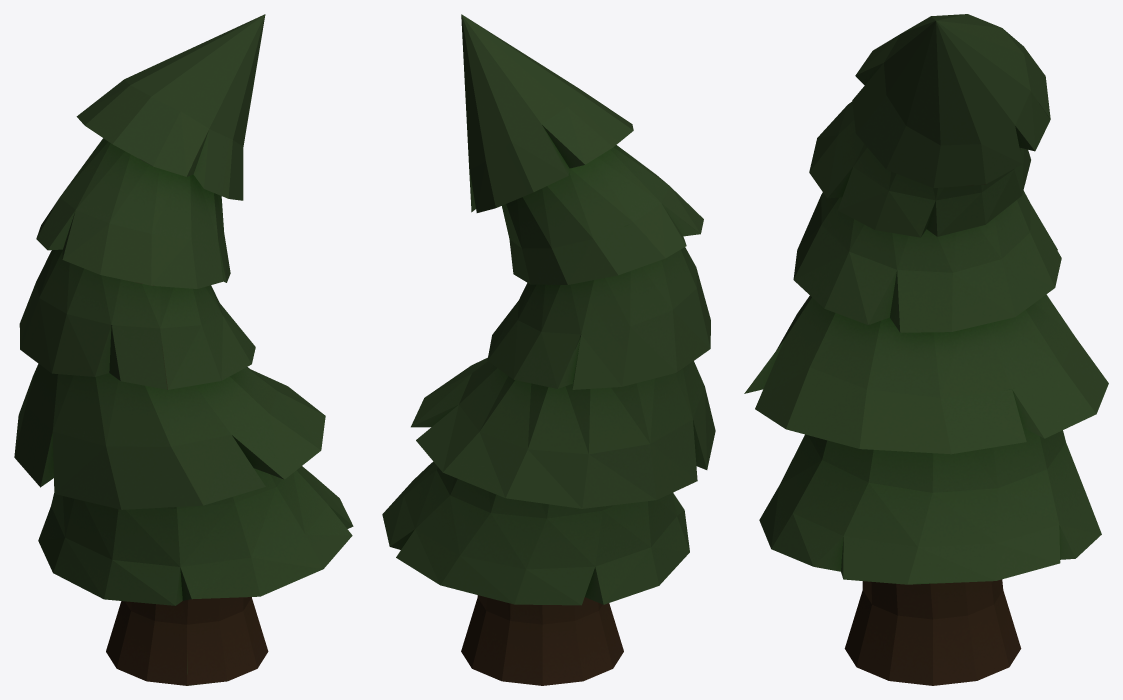
File: tree1.1rot.obj
3 renders of one model, left to right at view 1: azimuth 30°, elevation 25°; view 2: azimuth 150°, elevation 25°; view 3: azimuth 270°, elevation 25°, orthographic. The views are drawn at different scales.
Parts seen in each view (by area): view 1: Tree1.1Rot_Cylinder.002_Tree1.1Rot_Cylinder.002_Leaves.010, Tree1.1Rot_Cylinder.002_Tree1.1Rot_Cylinder.002_Trunk.011; view 2: Tree1.1Rot_Cylinder.002_Tree1.1Rot_Cylinder.002_Leaves.010, Tree1.1Rot_Cylinder.002_Tree1.1Rot_Cylinder.002_Trunk.011; view 3: Tree1.1Rot_Cylinder.002_Tree1.1Rot_Cylinder.002_Leaves.010, Tree1.1Rot_Cylinder.002_Tree1.1Rot_Cylinder.002_Trunk.011.
Part boxes in pixels (left/top/right/bottom): Tree1.1Rot_Cylinder.002_Tree1.1Rot_Cylinder.002_Leaves.010: left=14, top=14, right=353, bottom=605; Tree1.1Rot_Cylinder.002_Tree1.1Rot_Cylinder.002_Trunk.011: left=106, top=597, right=268, bottom=685; Tree1.1Rot_Cylinder.002_Tree1.1Rot_Cylinder.002_Leaves.010: left=382, top=14, right=715, bottom=605; Tree1.1Rot_Cylinder.002_Tree1.1Rot_Cylinder.002_Trunk.011: left=461, top=595, right=623, bottom=685; Tree1.1Rot_Cylinder.002_Tree1.1Rot_Cylinder.002_Leaves.010: left=744, top=14, right=1108, bottom=584; Tree1.1Rot_Cylinder.002_Tree1.1Rot_Cylinder.002_Trunk.011: left=844, top=579, right=1021, bottom=685.
Bounding box in the file's own units: 4.15 × 8.38 × 4.13.
Materials: 2 (2 with a texture image).
